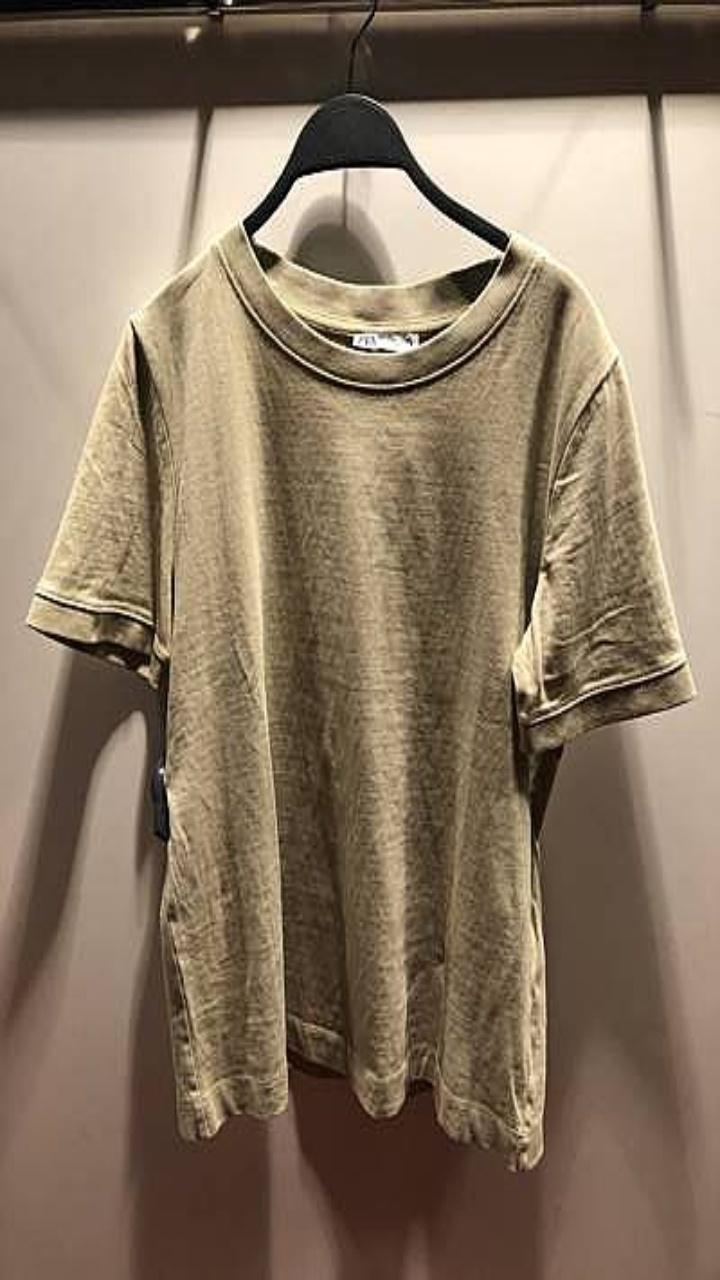T-Shirt: (26, 222, 696, 1169)
